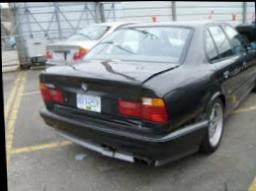Bumper: (45, 110, 206, 169)
Dickey: (41, 56, 179, 125)
